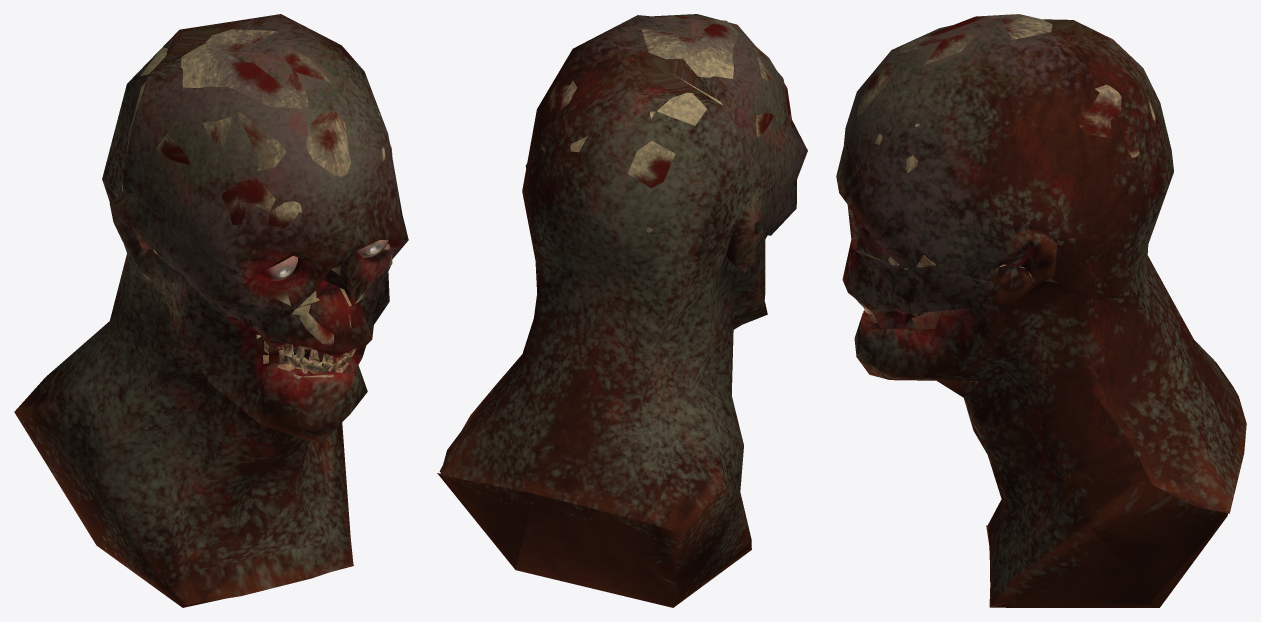
The model's file is zombie_head.glb.
3 renders of one model, left to right at view 1: azimuth 30°, elevation 25°; view 2: azimuth 150°, elevation 25°; view 3: azimuth 270°, elevation 25°, orthographic. The views are drawn at different scales.
Parts seen in each view (by area): view 1: defaultMaterial.009, defaultMaterial.010, defaultMaterial.002; view 2: defaultMaterial.009, defaultMaterial.010; view 3: defaultMaterial.009, defaultMaterial.010.
Part boxes in pixels (box(x1,y1,x2,y2)): defaultMaterial.009: box(14, 14, 408, 607); defaultMaterial.010: box(122, 29, 392, 379); defaultMaterial.002: box(258, 240, 388, 280); defaultMaterial.009: box(437, 14, 807, 607); defaultMaterial.010: box(541, 15, 793, 232); defaultMaterial.009: box(836, 18, 1246, 607); defaultMaterial.010: box(849, 14, 1155, 329).
Size of the model in its own units: 1.07 by 2 by 1.37.
6 materials, 6 textured.
